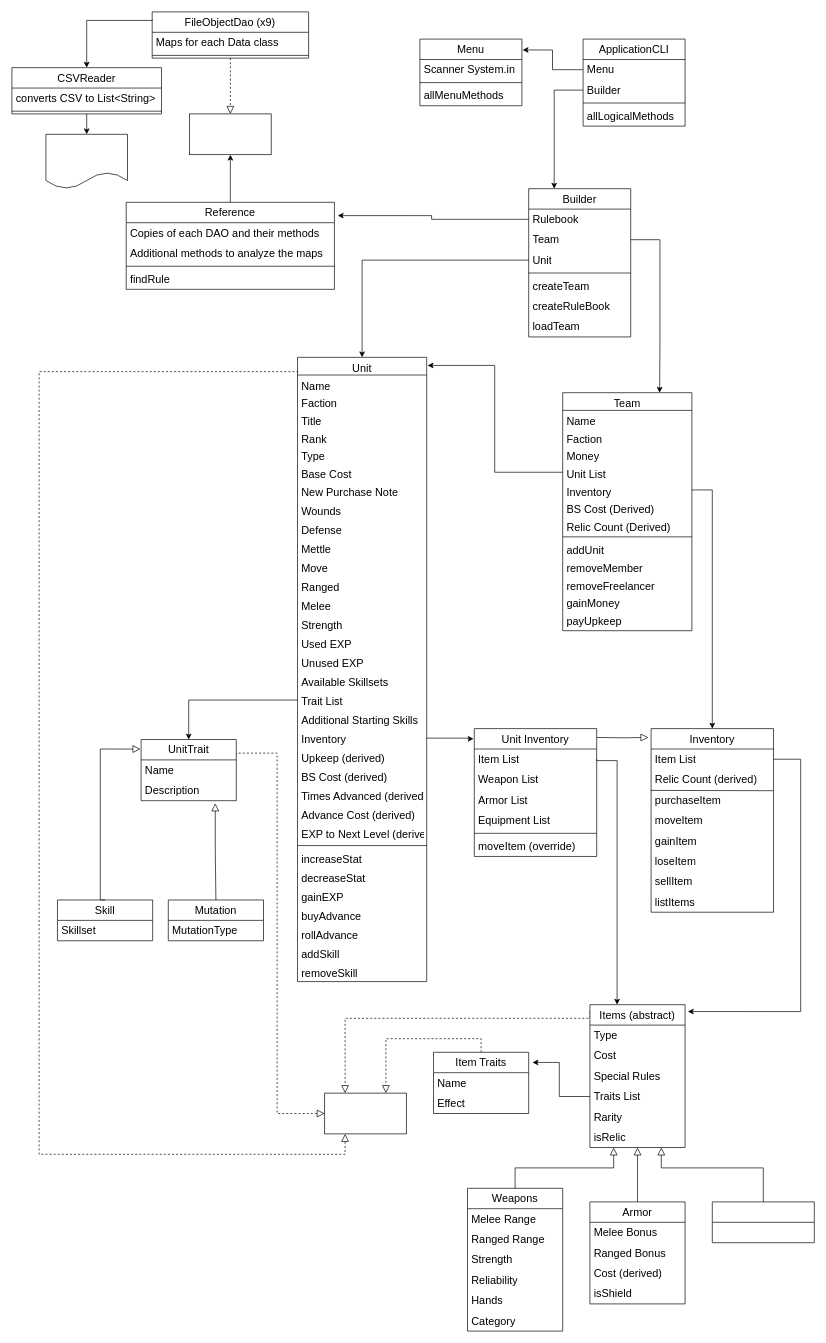
Some shapes in this 826 by 1343 pixel diagram are drawn without their labels. Here are the shapes that lost their labels. From the top down, the centre of each, then its label:
point 230,134: <<Interface>> ObjectDAO (x9)
point 86,161: CSV Files
point 365,1113: <<Interface>> Referenceable
point 763,1222: Equipment
